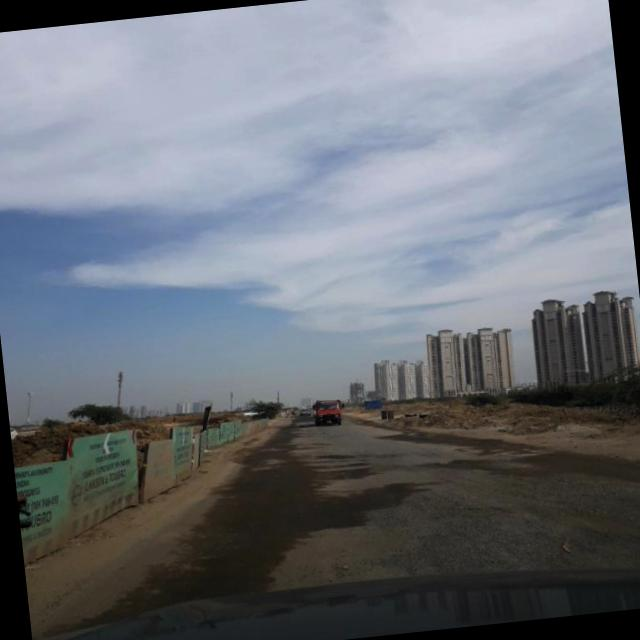pothole: (310, 437, 640, 588)
